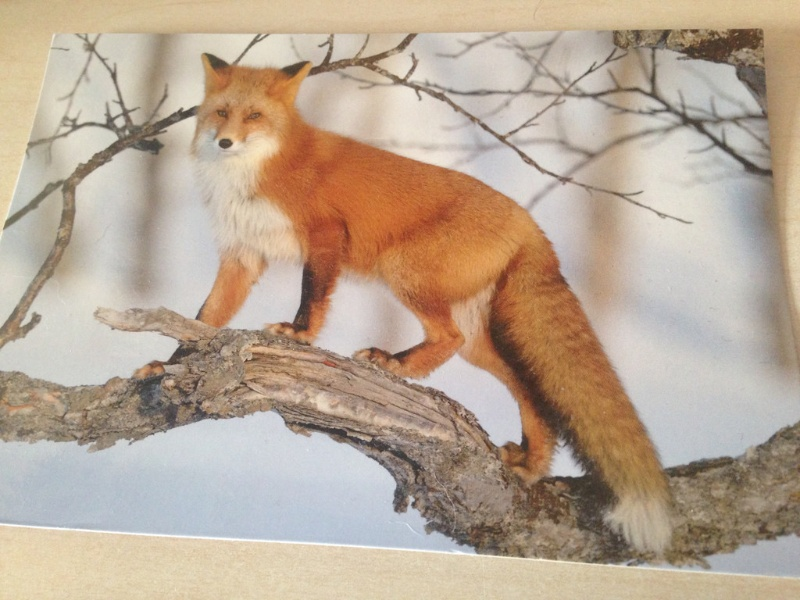fox: (169, 54, 671, 549)
